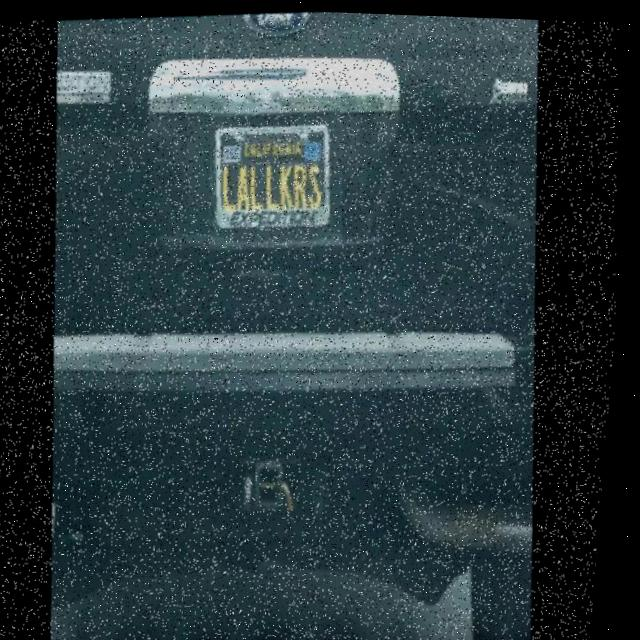LicensePlate: (204, 101, 354, 252)
